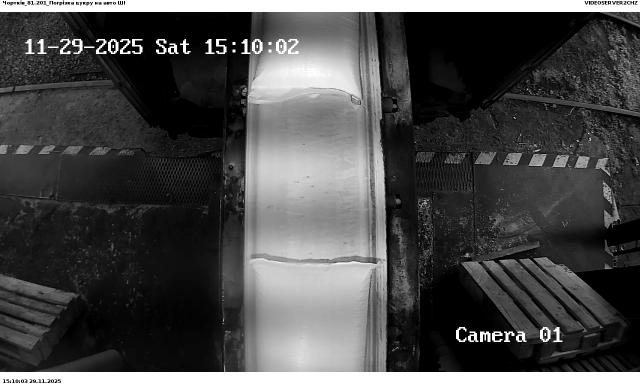bag: (248, 258, 380, 372), (247, 12, 363, 101)
